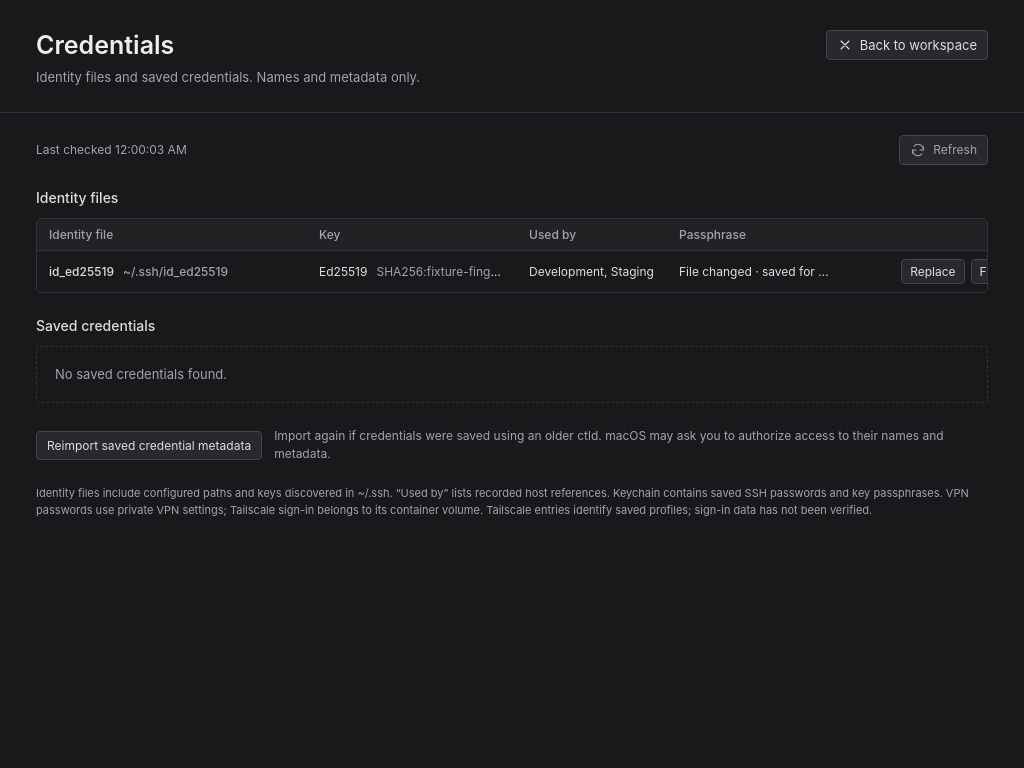
Identity file credentials › explains replacement when the saved passphrase belongs to an older file
This screenshot has width=1024, height=768.
Check: the text "File changed · saved for older file" is shown, box [679,264,835,278]
Click the button with aria-label "Replace passphrase for id_ed25519": (933, 271) [901,258,965,284]
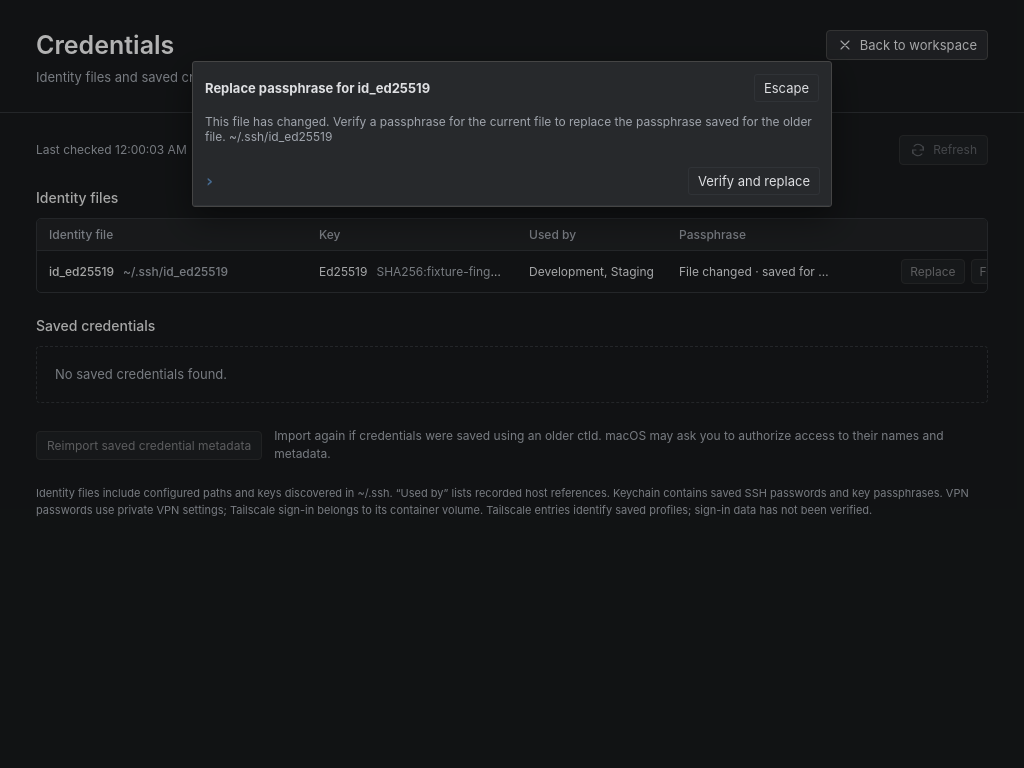
Check: the text "Verify a passphrase for the current file to replace" is shown, box [205,114,815,144]
Check: the button "Verify and replace" is shown, box [688,167,820,195]
